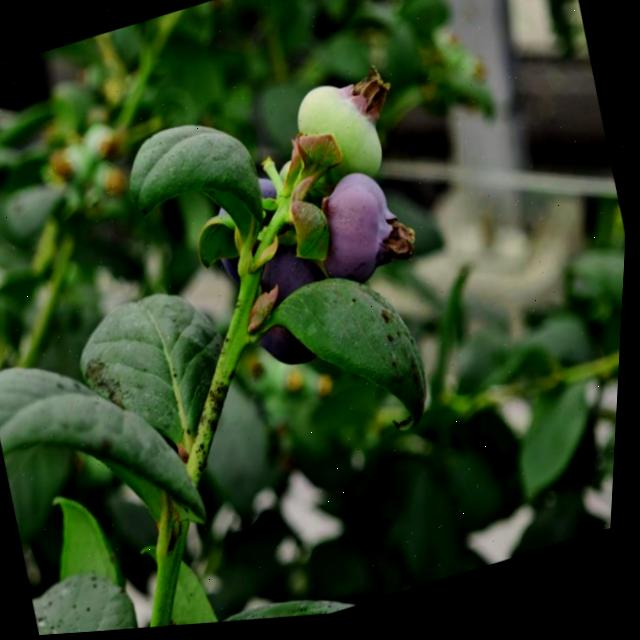RipeBlueBerry: (306, 166, 411, 298)
UnripeBlueBerry: (286, 69, 396, 198)
